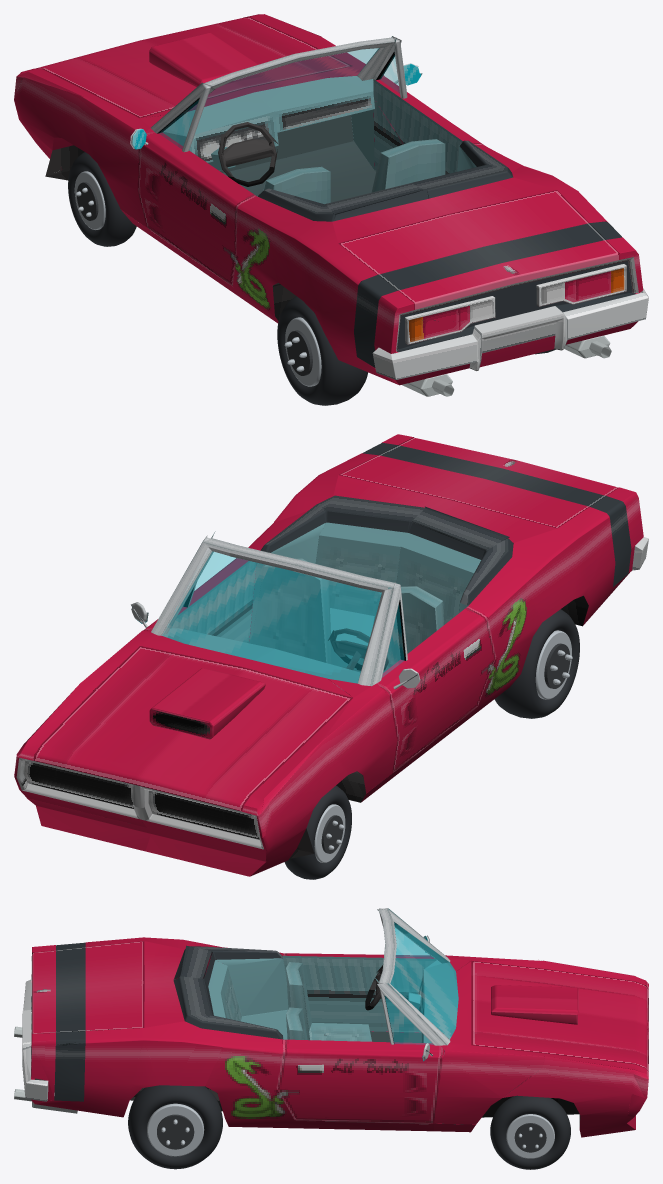
File: car-snake_v.glb
The picture shows the model from 3 angles, top to bottom: view 1: azimuth 30°, elevation 25°; view 2: azimuth 150°, elevation 25°; view 3: azimuth 270°, elevation 25°; orthographic projection. The views are drawn at different scales.
Visible parts, largest first — view 1: snake_vShape.003, snake_vShape.006, snake_vShape.002, TrunkRotShape.004, HoodRotShape.004, DoorDRotShape.020, snake_vShape.007, DoorPRotShape.020, Rounded tire.036, snake_vShape.009, Rounded tire.039, steeringwheelShape (+10 smaller); view 2: snake_vShape.003, HoodRotShape.004, snake_vShape.006, snake_vShape.009, TrunkRotShape.004, DoorDRotShape.020, snake_vShape.007, snake_vShape.005, DoorPRotShape.020, snake_vShape.002, Rounded tire.036, Rounded tire.039 (+8 smaller); view 3: snake_vShape.003, HoodRotShape.004, DoorPRotShape.019, snake_vShape.006, TrunkRotShape.004, snake_vShape.004, DoorDRotShape.021, snake_vShape.007, snake_vShape.009, snake_vShape.002, Rounded tire.037, Rounded tire.038 (+10 smaller).
Boxes of the visible parts, x1,y1,x2,y2 form: snake_vShape.003: (14, 14, 643, 385); snake_vShape.006: (162, 37, 600, 281); snake_vShape.002: (332, 177, 648, 379); TrunkRotShape.004: (338, 190, 619, 309); HoodRotShape.004: (36, 17, 351, 118); DoorDRotShape.020: (137, 132, 256, 285); snake_vShape.007: (258, 140, 621, 367); DoorPRotShape.020: (373, 36, 462, 174); Rounded tire.036: (277, 296, 367, 405); snake_vShape.009: (189, 48, 379, 110); Rounded tire.039: (68, 152, 136, 246); steeringwheelShape: (218, 122, 278, 186); snake_vShape.003: (14, 434, 643, 876); HoodRotShape.004: (33, 646, 352, 811); snake_vShape.006: (95, 445, 513, 692); snake_vShape.009: (163, 551, 381, 683); TrunkRotShape.004: (339, 437, 618, 528); DoorDRotShape.020: (377, 606, 496, 772); snake_vShape.007: (260, 443, 631, 605); snake_vShape.005: (16, 758, 263, 849); DoorPRotShape.020: (131, 531, 256, 642); snake_vShape.002: (333, 475, 648, 570); Rounded tire.036: (494, 609, 579, 718); Rounded tire.039: (284, 785, 351, 879); snake_vShape.003: (31, 937, 648, 1137); HoodRotShape.004: (471, 961, 648, 1071); DoorPRotShape.019: (276, 1039, 444, 1123); snake_vShape.006: (57, 909, 458, 1053); TrunkRotShape.004: (32, 941, 144, 1033); snake_vShape.004: (201, 1028, 433, 1131); DoorDRotShape.021: (283, 908, 445, 1032); snake_vShape.007: (54, 942, 282, 1101); snake_vShape.009: (390, 922, 458, 1038); snake_vShape.002: (22, 941, 184, 1101); Rounded tire.037: (128, 1085, 222, 1169); Rounded tire.038: (490, 1095, 570, 1169).
Size of the model in its own units: 2.36 by 1.76 by 5.49.
14 materials, 11 textured.
